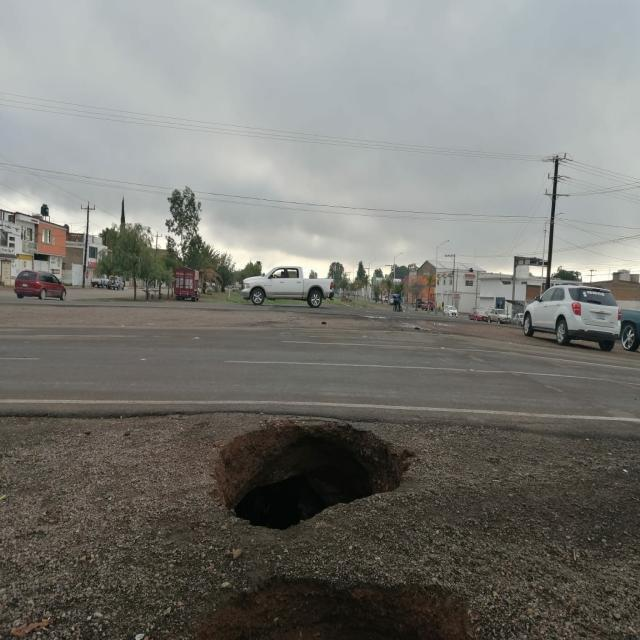pothole: (173, 390, 421, 558)
